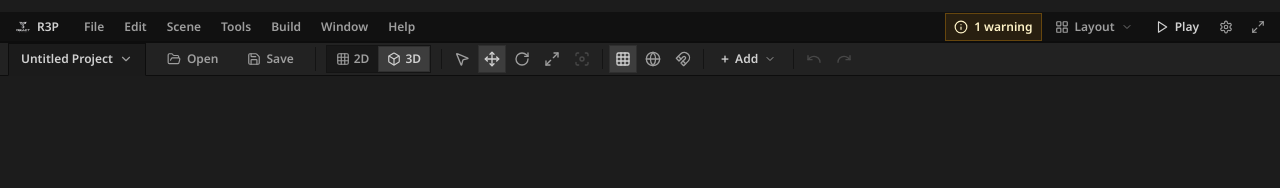
Test: EditorHeader layout selector › uses 2D creation entries in the Scene menu for 2D projects
The width and height of the screenshot is (1280, 188).
Click the button "Scene" at (184, 26), box [157,12,211,41]
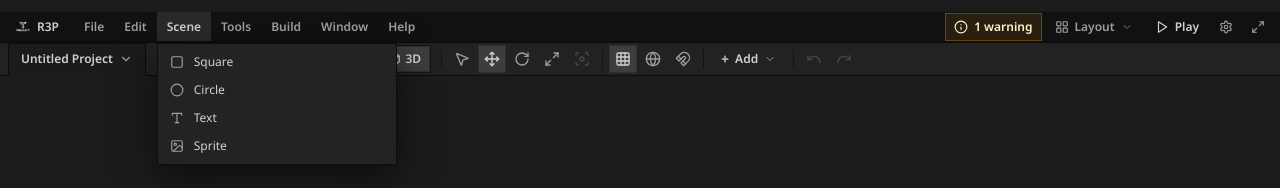
Result: the button "Square" is shown at [158,48,396,76]
Result: the button "Sprite" is shown at [158,132,396,160]
